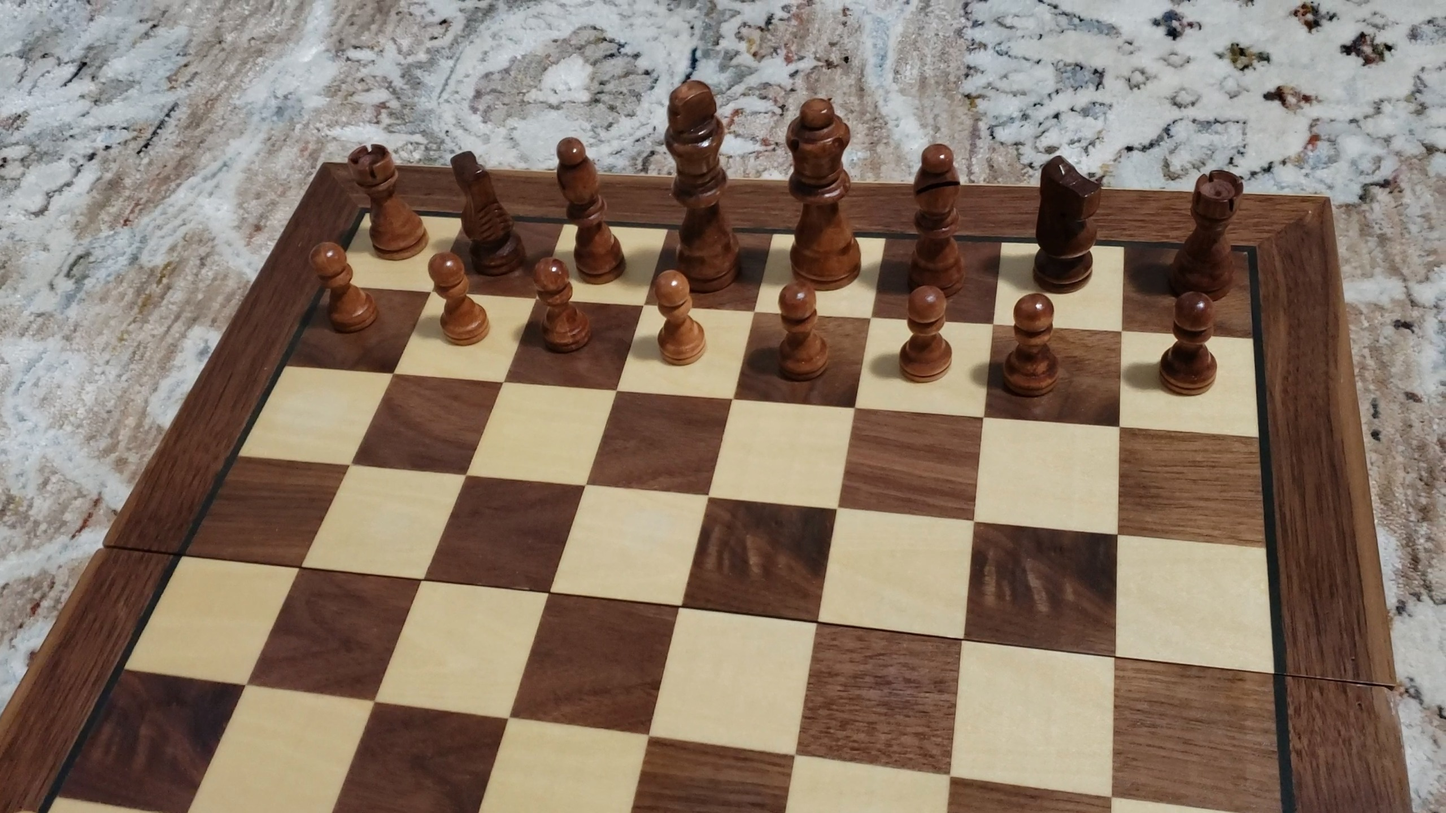black-bishop: (557, 134, 630, 287), (906, 142, 962, 301)
black-king: (666, 77, 743, 293)
black-knight: (1033, 152, 1102, 292), (451, 149, 524, 277)
black-pawn: (1147, 284, 1230, 412), (763, 284, 843, 387), (311, 239, 377, 334), (426, 250, 489, 346), (532, 254, 591, 354), (1002, 294, 1057, 397), (905, 285, 956, 385), (653, 267, 704, 367)
black-queen: (784, 94, 855, 293)
black-rook: (1166, 167, 1244, 303), (346, 140, 427, 261)
